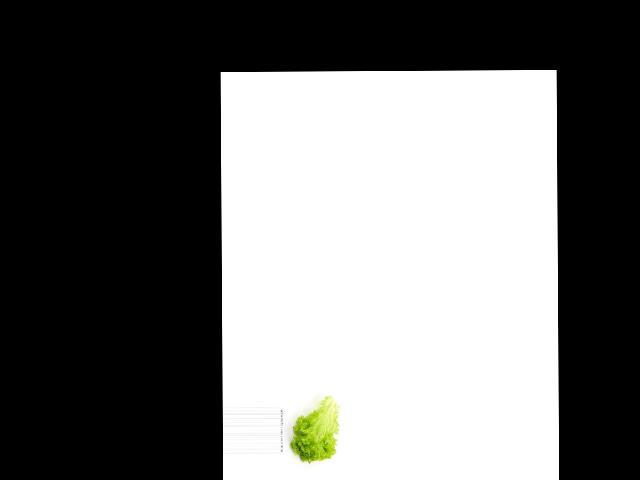lettuce: (289, 396, 341, 465)
